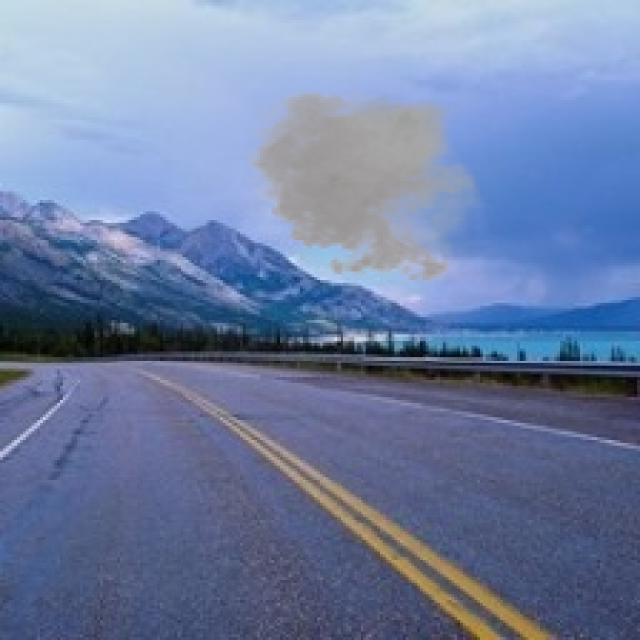Smoke: (237, 82, 492, 288)
